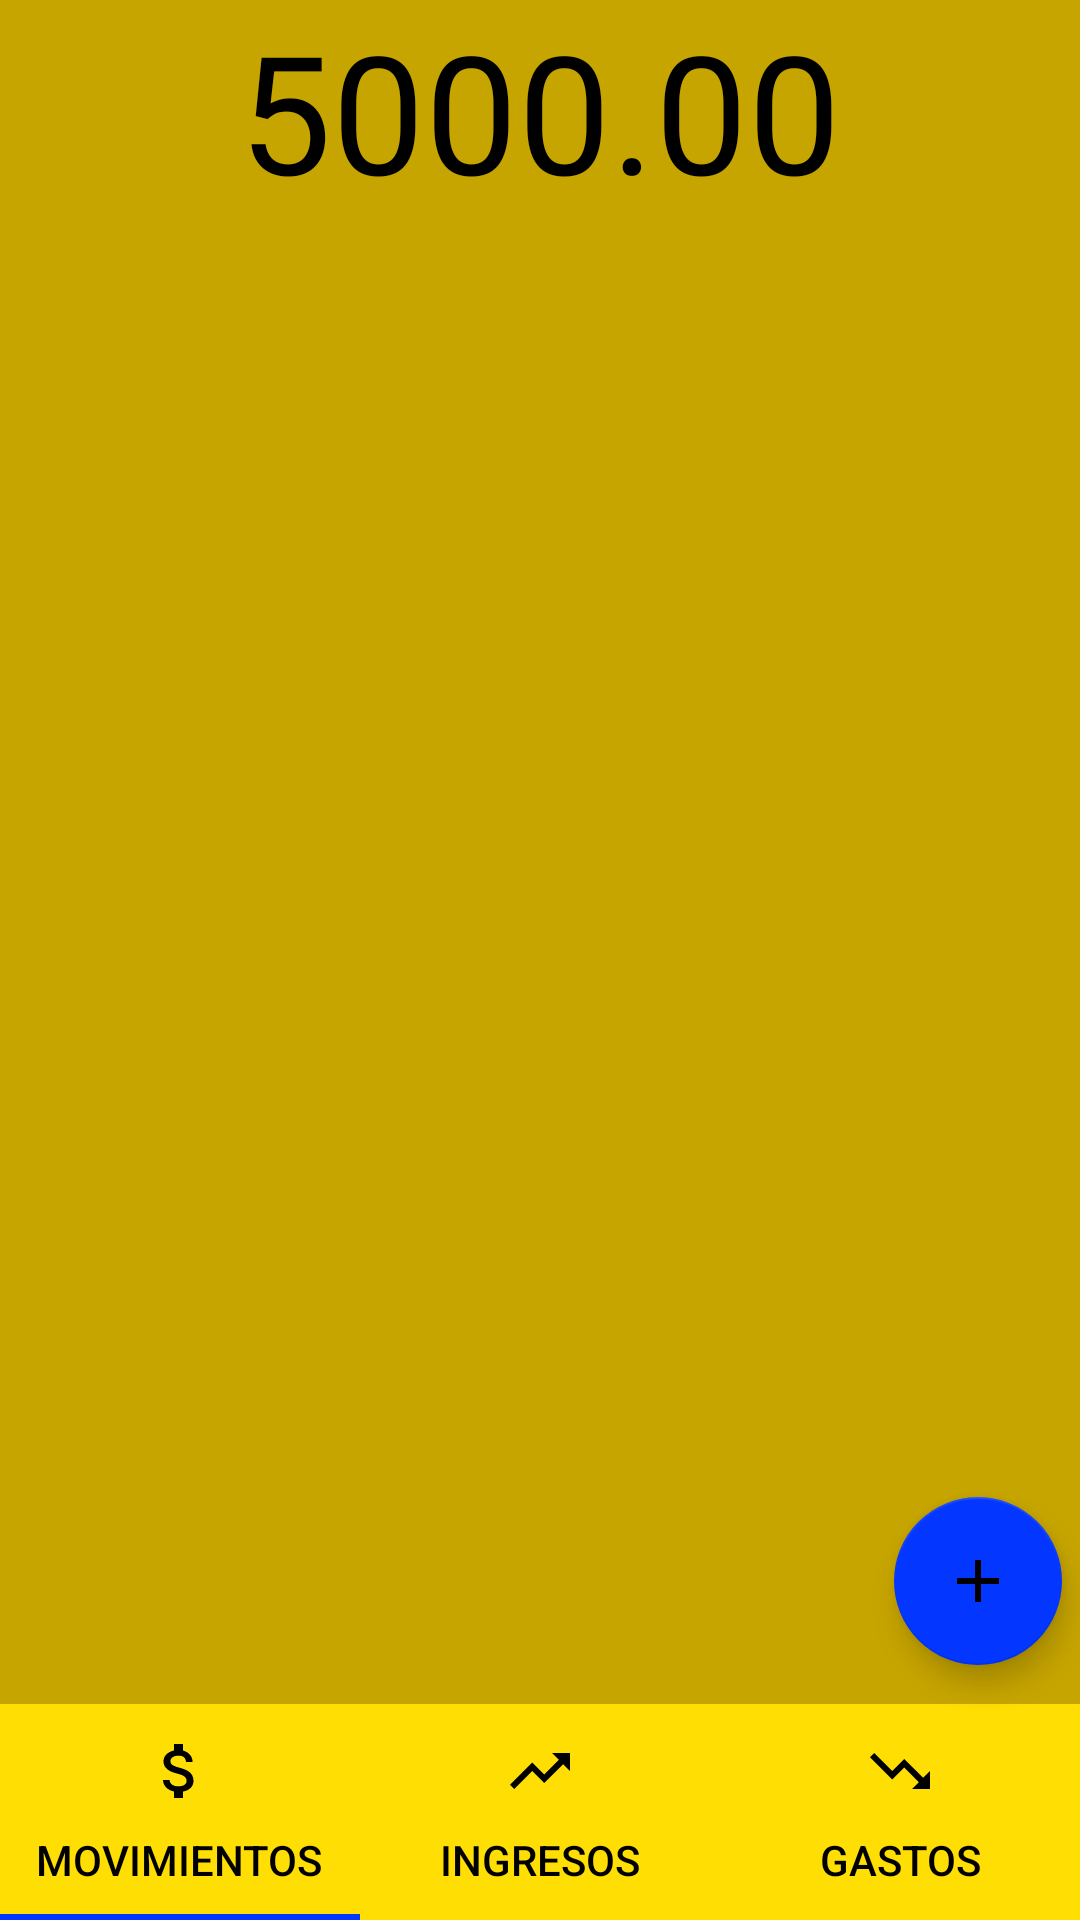

Icon bounding boxes for this 1080x1920 phone screenshot, format (x1, y1, x2, y2):
add: (894, 1497, 1062, 1665)
